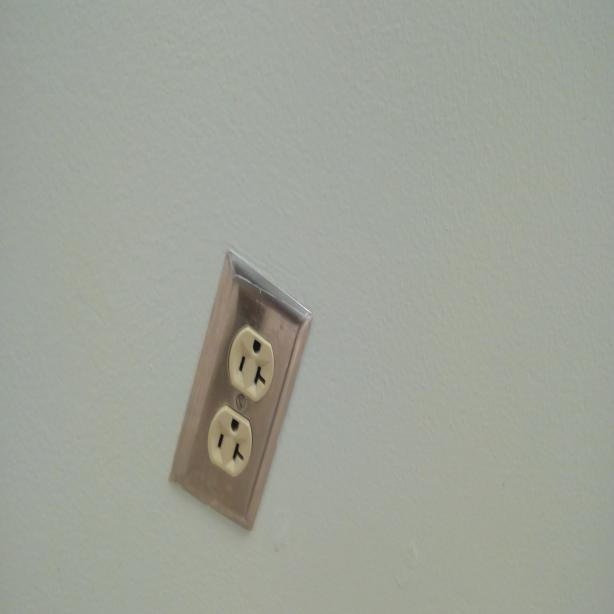typeb: (224, 324, 272, 396), (210, 415, 251, 469)
